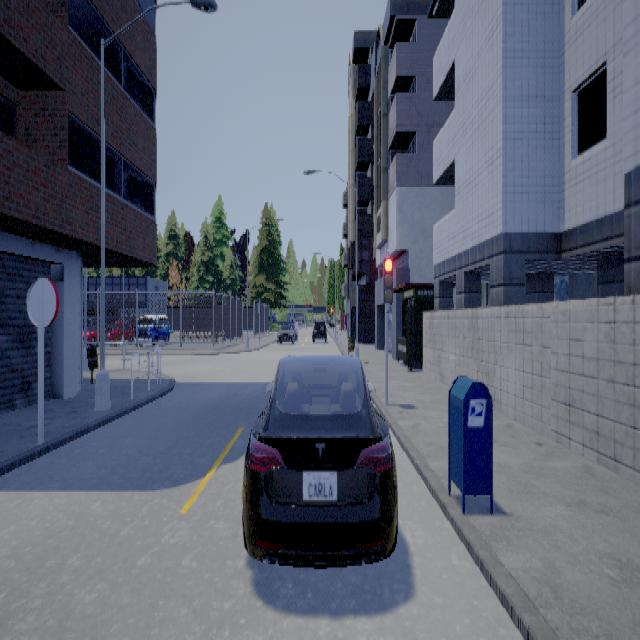red_light: (382, 248, 392, 312)
traffic_sign: (25, 276, 56, 327)
vehicle: (241, 353, 397, 568), (137, 313, 171, 340)
